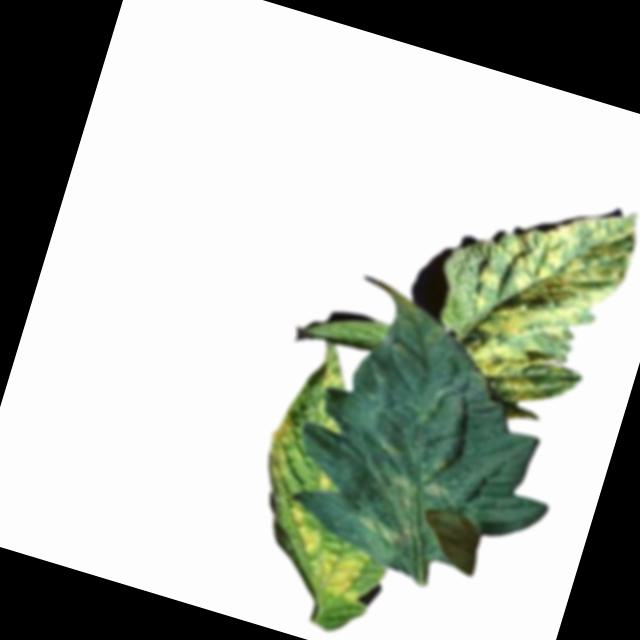Leaf_Mold: (446, 177, 640, 421), (267, 498, 385, 608), (351, 458, 459, 559), (255, 408, 302, 491), (319, 362, 353, 395), (313, 467, 337, 495)
